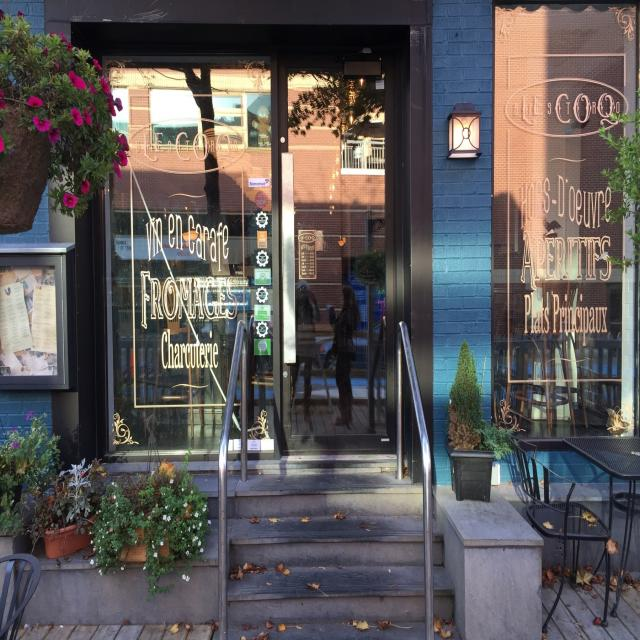AVOID: (220, 493, 454, 624)
